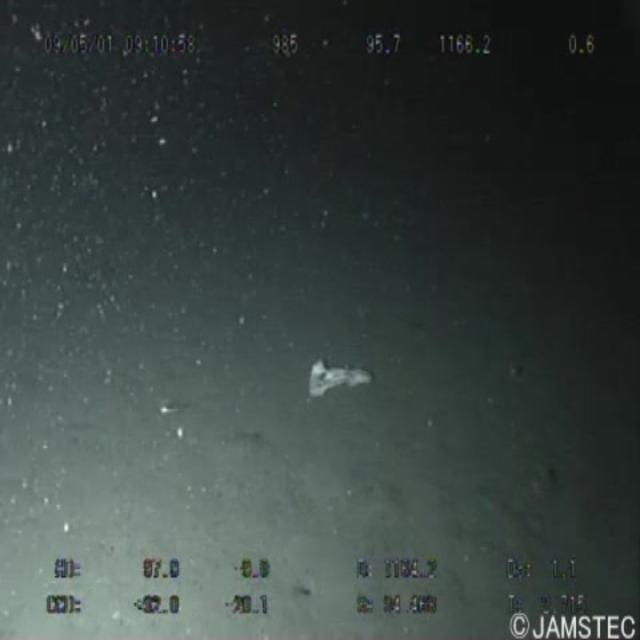Plastic: (304, 342, 382, 415)
